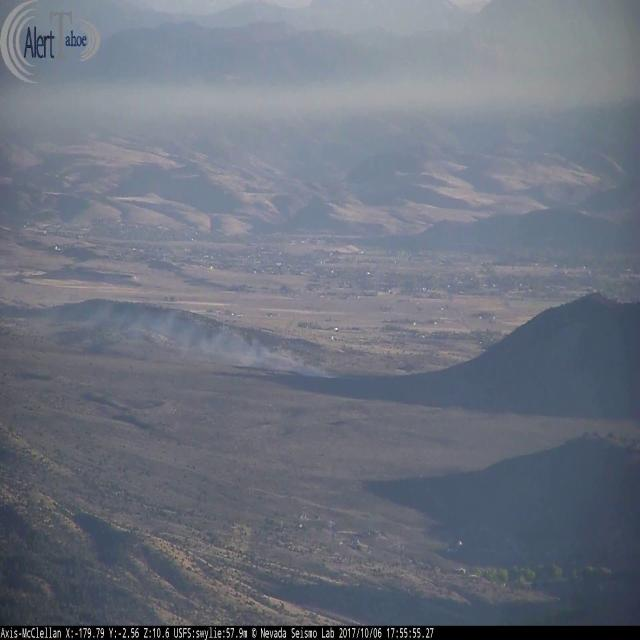smoke: (64, 300, 348, 389)
